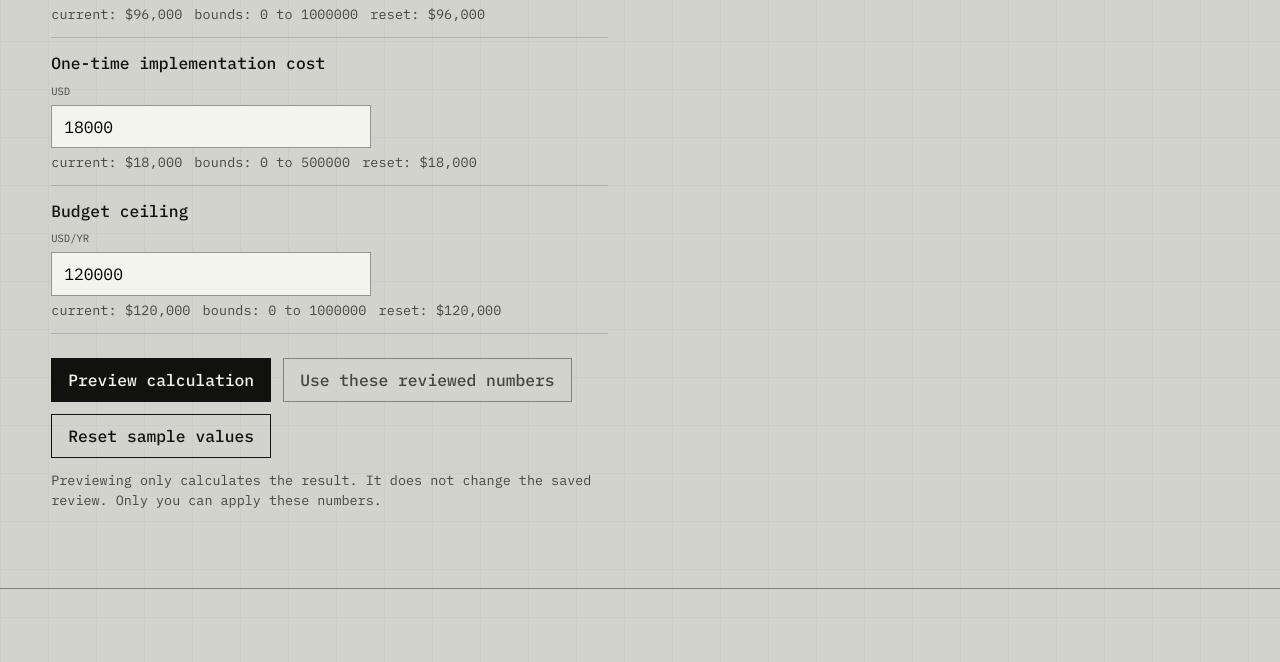
Scenario: ROI workspace › explains why an unchanged preview cannot be applied
(page scrolled)
Click the button "Preview calculation" at (161,380), box [51,358,271,402]
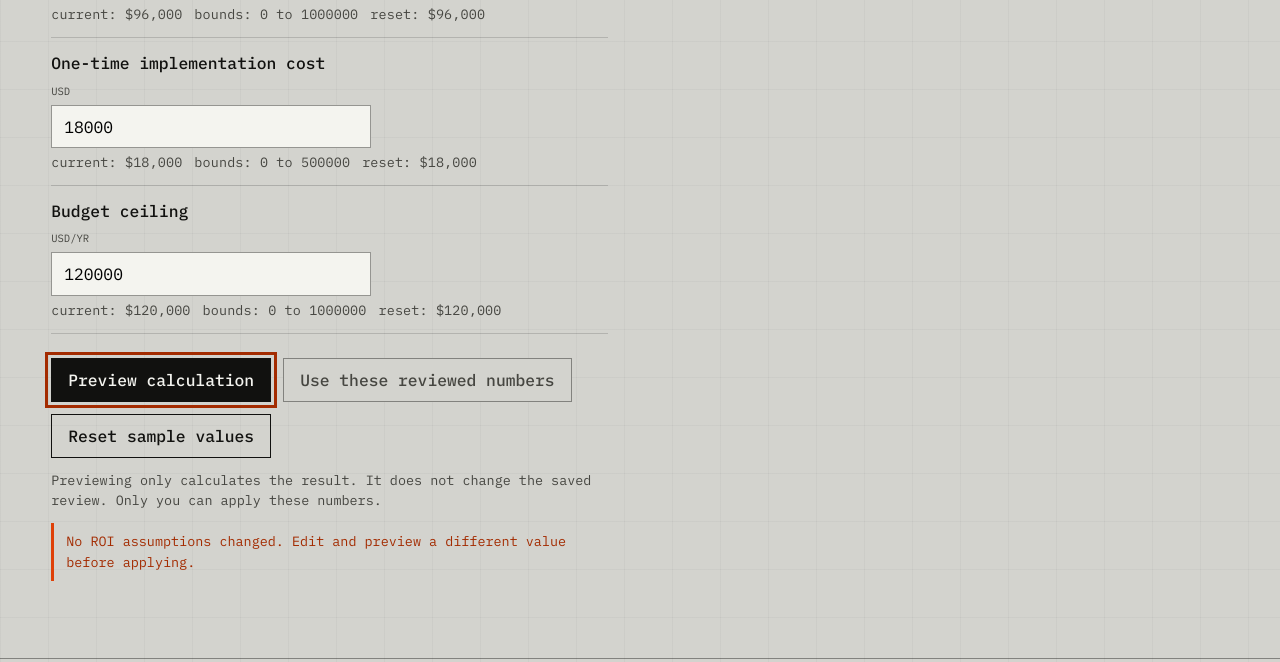
Check: the button "Use these reviewed numbers" is disabled, box [283,358,572,402]
Check: the text "No ROI assumptions changed. Edit and preview a different value before applying." is shown, box [51,523,600,581]
